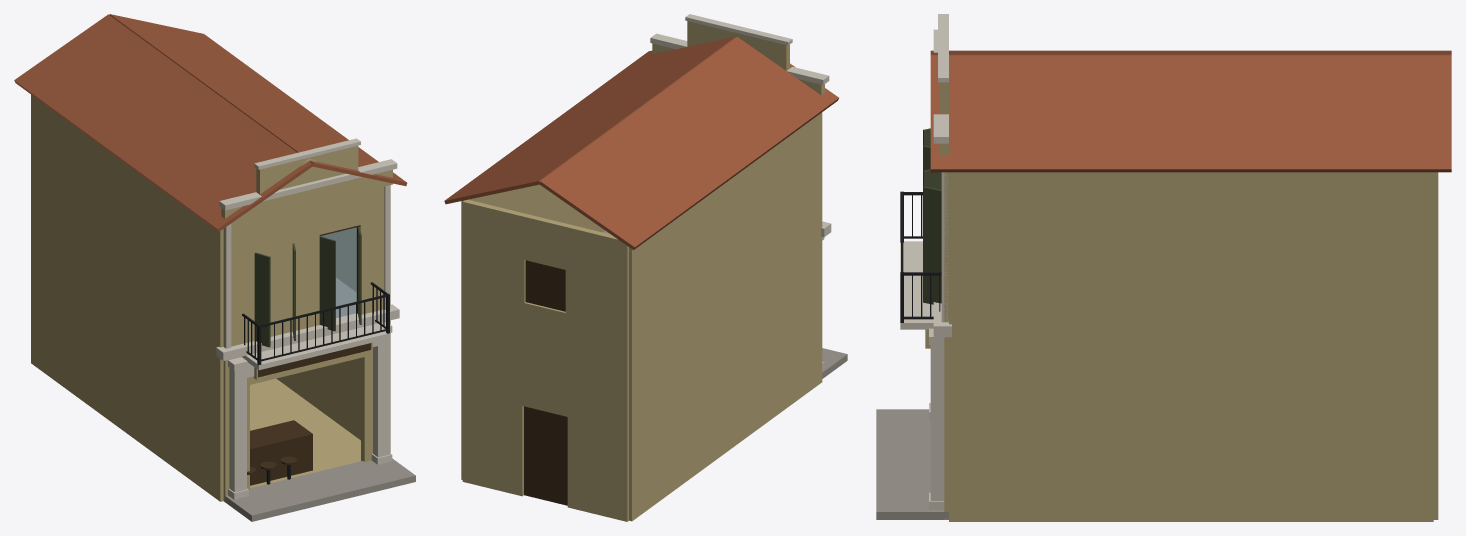
Rendered from narrow-vietnamese-urban-shophouse.glb.
3 views of the same model, side by side, from view 1: azimuth 30°, elevation 25°; view 2: azimuth 150°, elevation 25°; view 3: azimuth 270°, elevation 25° (orthographic). The views are drawn at different scales.
Visible parts, largest first — view 1: Mesh_GroundFloor_WallRight, Mesh_RoofA, Mesh_SecondFloor_WallRight, Mesh_SecondFloor_WallFront_R, Mesh_RoofB, Mesh_PavementMain, Mesh_GroundFloor_Floor, Mesh_GroundFloor_WallLeft, Mesh_ShopCounter, Mesh_ShutRMesh (×2), Mesh_SecondFloor_WallFront_L, Mesh_PedimentBase (+17 smaller); view 2: Mesh_GroundFloor_WallRight, Mesh_RoofA, Mesh_SecondFloor_WallRight, Mesh_RoofB, Mesh_GroundFloor_WallBack_R, Mesh_GroundFloor_WallBack_L, Mesh_SecondFloor_WallBack_R, Mesh_SecondFloor_WallBack_L, Mesh_BackDoor, Mesh_GroundFloor_WallBack_Lintel, Mesh_SecondFloor_WallLeft, Mesh_SecondFloor_WallBack_Lintel (+6 smaller); view 3: Mesh_GroundFloor_WallLeft, Mesh_SecondFloor_WallLeft, Mesh_RoofB, Mesh_PavementMain, Mesh_RoofA, Mesh_ShopPierL, Mesh_ShutLMesh, Mesh_BalconySlab, Mesh_GroundFloor_WallBack_L, Mesh_SecondFloor_WallBack_L, Mesh_SecondPilasterL, Mesh_GroundFloor_WallFront_L (+2 smaller).
Part boxes in pixels (<box>): Mesh_GroundFloor_WallRight: <box>31,213,223,501</box>; Mesh_RoofA: <box>14,14,312,231</box>; Mesh_SecondFloor_WallRight: <box>31,94,223,348</box>; Mesh_SecondFloor_WallFront_R: <box>223,202,319,347</box>; Mesh_RoofB: <box>109,14,407,186</box>; Mesh_PavementMain: <box>225,458,415,521</box>; Mesh_GroundFloor_Floor: <box>250,378,360,488</box>; Mesh_GroundFloor_WallLeft: <box>276,277,390,452</box>; Mesh_ShopCounter: <box>250,420,312,485</box>; Mesh_ShutRMesh (×2): <box>254,236,335,347</box>; Mesh_SecondFloor_WallFront_L: <box>360,186,384,314</box>; Mesh_PedimentBase: <box>221,169,392,223</box>; Mesh_GroundFloor_WallRight: <box>629,232,822,521</box>; Mesh_RoofA: <box>539,37,838,250</box>; Mesh_SecondFloor_WallRight: <box>629,112,822,370</box>; Mesh_RoofB: <box>444,36,736,204</box>; Mesh_GroundFloor_WallBack_R: <box>567,357,628,521</box>; Mesh_GroundFloor_WallBack_L: <box>462,331,523,496</box>; Mesh_SecondFloor_WallBack_R: <box>565,224,628,370</box>; Mesh_SecondFloor_WallBack_L: <box>462,200,527,345</box>; Mesh_BackDoor: <box>524,406,567,505</box>; Mesh_GroundFloor_WallBack_Lintel: <box>521,345,568,416</box>; Mesh_SecondFloor_WallLeft: <box>461,184,604,329</box>; Mesh_SecondFloor_WallBack_Lintel: <box>523,214,569,269</box>; Mesh_GroundFloor_WallLeft: <box>949,329,1433,521</box>; Mesh_SecondFloor_WallLeft: <box>949,172,1433,329</box>; Mesh_RoofB: <box>930,55,1451,172</box>; Mesh_PavementMain: <box>876,409,948,519</box>; Mesh_RoofA: <box>930,50,1451,55</box>; Mesh_ShopPierL: <box>930,345,944,500</box>; Mesh_ShutLMesh: <box>923,186,941,304</box>; Mesh_BalconySlab: <box>900,241,933,329</box>; Mesh_GroundFloor_WallBack_L: <box>1433,328,1438,519</box>; Mesh_SecondFloor_WallBack_L: <box>1433,172,1438,327</box>; Mesh_SecondPilasterL: <box>941,172,948,322</box>; Mesh_GroundFloor_WallFront_L: <box>944,337,948,519</box>.
Bounding box in the file's own units: 4.63 × 7.7 × 9.5.
Materials: 2 (2 with a texture image).
